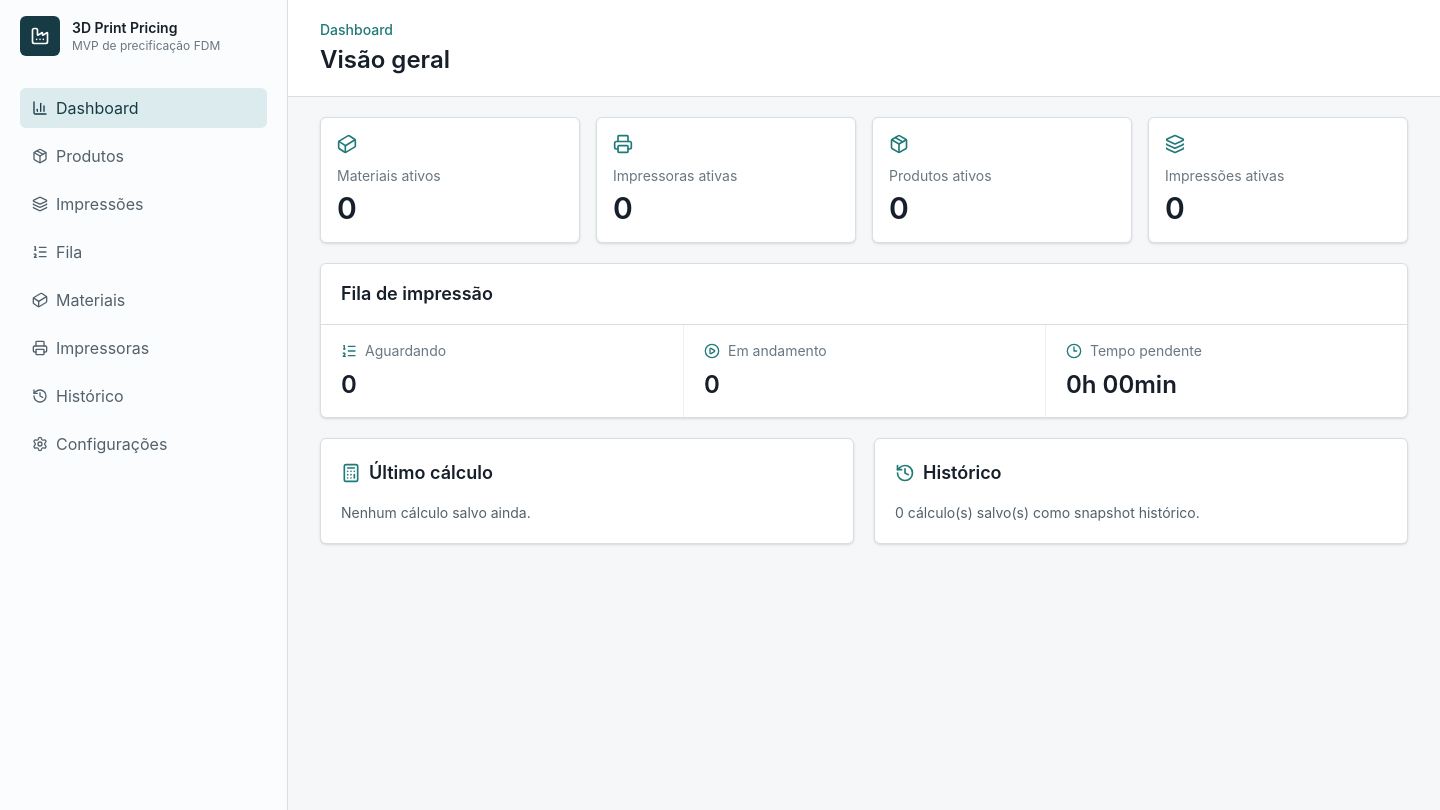
Test case: App › opens history and settings from navigation
Click the button "Histórico" at (144, 396), box x1=20 y1=376 x2=267 y2=416
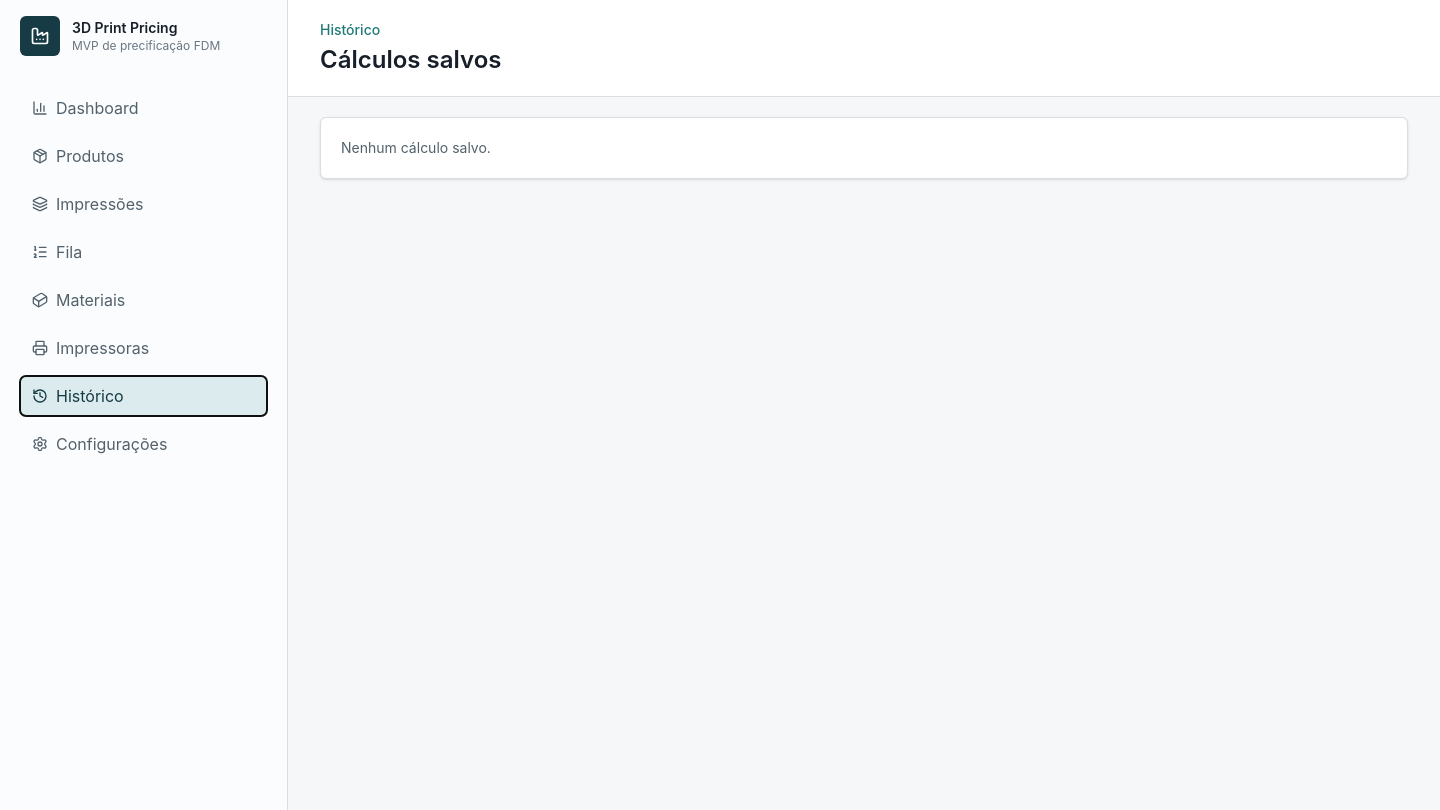
Expected: the heading "Cálculos salvos" is shown, x1=320 y1=45 x2=501 y2=74
Expected: the text "Nenhum cálculo salvo." is shown, x1=320 y1=117 x2=1408 y2=179
Click the button "Configurações" at (144, 444), box x1=20 y1=424 x2=267 y2=464
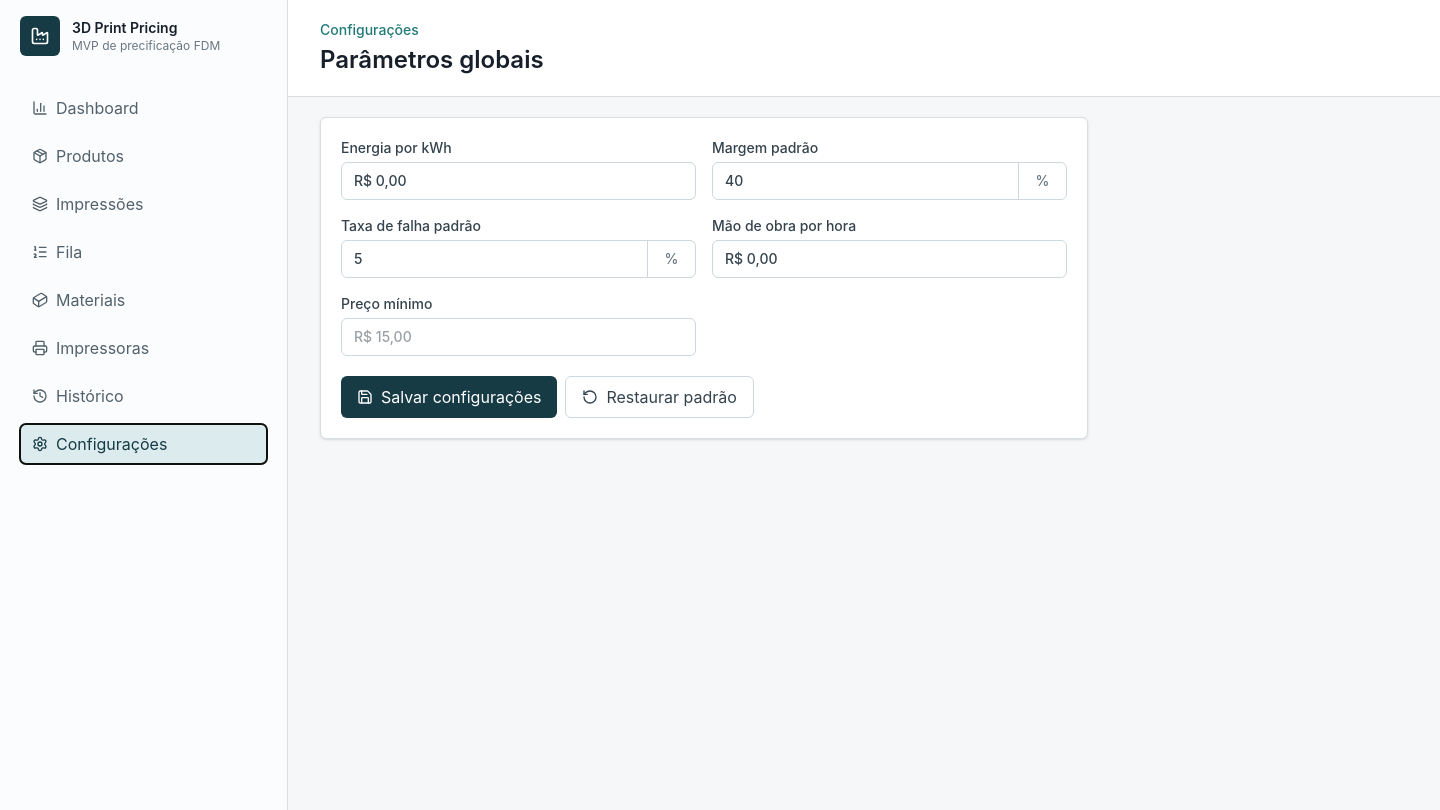
Expected: the heading "Parâmetros globais" is shown, x1=320 y1=44 x2=544 y2=76
